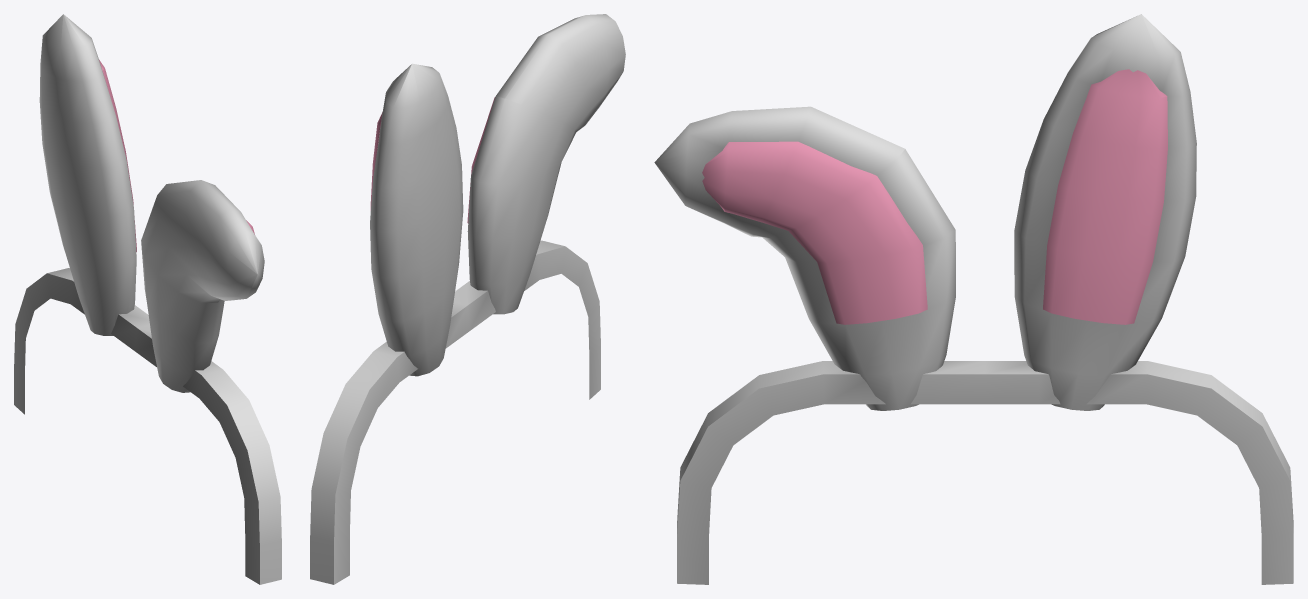
File: acc_bunny_ears.glb
3 renders of one model, left to right at view 1: azimuth 30°, elevation 25°; view 2: azimuth 150°, elevation 25°; view 3: azimuth 270°, elevation 25°, orthographic. The views are drawn at different scales.
Visible parts, largest first — view 1: acc_bunny_ears; view 2: acc_bunny_ears; view 3: acc_bunny_ears.
Part boxes in pixels (left/top/right/bottom): acc_bunny_ears: left=14, top=14, right=281, bottom=584; acc_bunny_ears: left=310, top=14, right=625, bottom=584; acc_bunny_ears: left=654, top=14, right=1293, bottom=584.
Bounding box in the file's own units: 0.0773 × 0.5507 × 0.5806.
